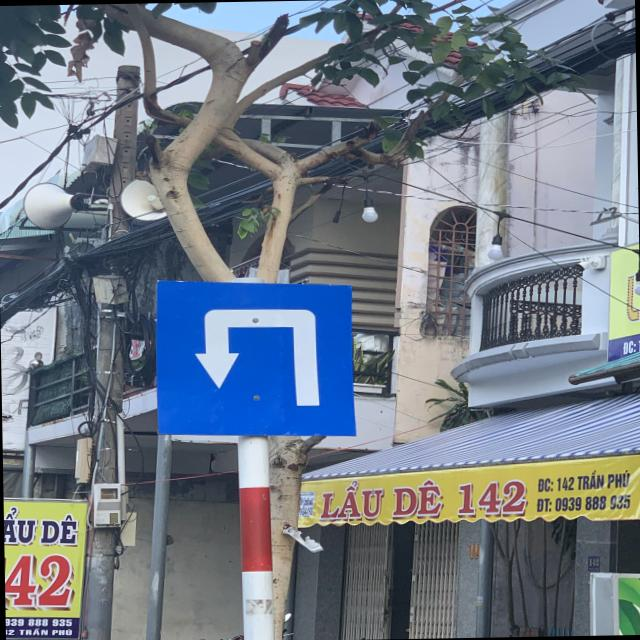Den_Giao_Thong: (153, 276, 354, 440)
